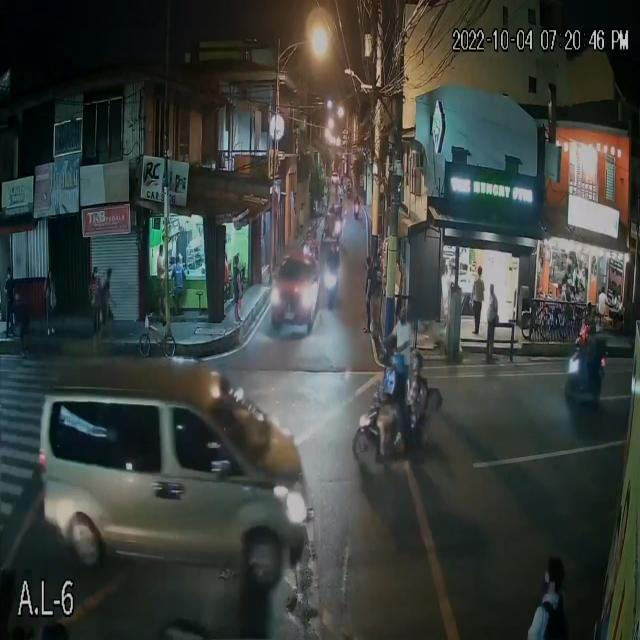Full-Faced: (389, 350, 409, 382), (408, 348, 427, 377)
